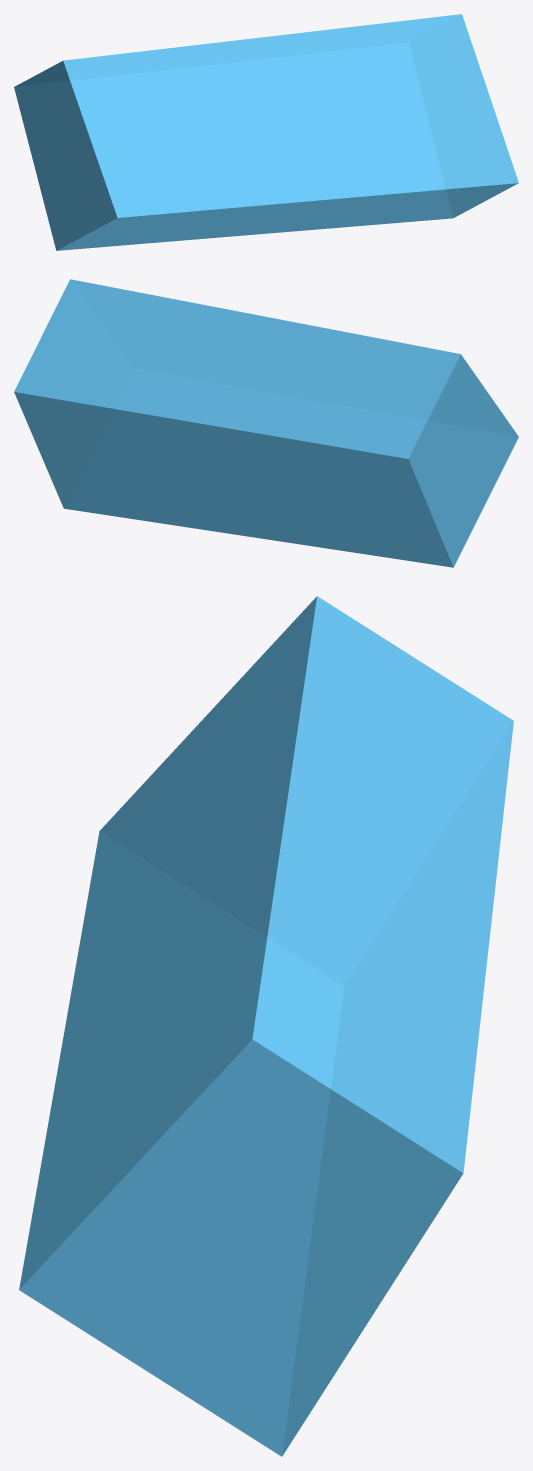
Rendered from Event_421278790_HErechit_18.fbx.
3 renders of one model, top to bottom at view 1: azimuth 30°, elevation 25°; view 2: azimuth 150°, elevation 25°; view 3: azimuth 270°, elevation 25°, orthographic. The views are drawn at different scales.
Parts seen in each view (by area): view 1: Model; view 2: Model; view 3: Model.
Part boxes in pixels (left/top/right/bottom): Model: left=14, top=14, right=518, bottom=250; Model: left=14, top=279, right=518, bottom=567; Model: left=19, top=596, right=513, bottom=1456.
Size of the model in its own units: 0.7436 by 0.4539 by 0.4164.
